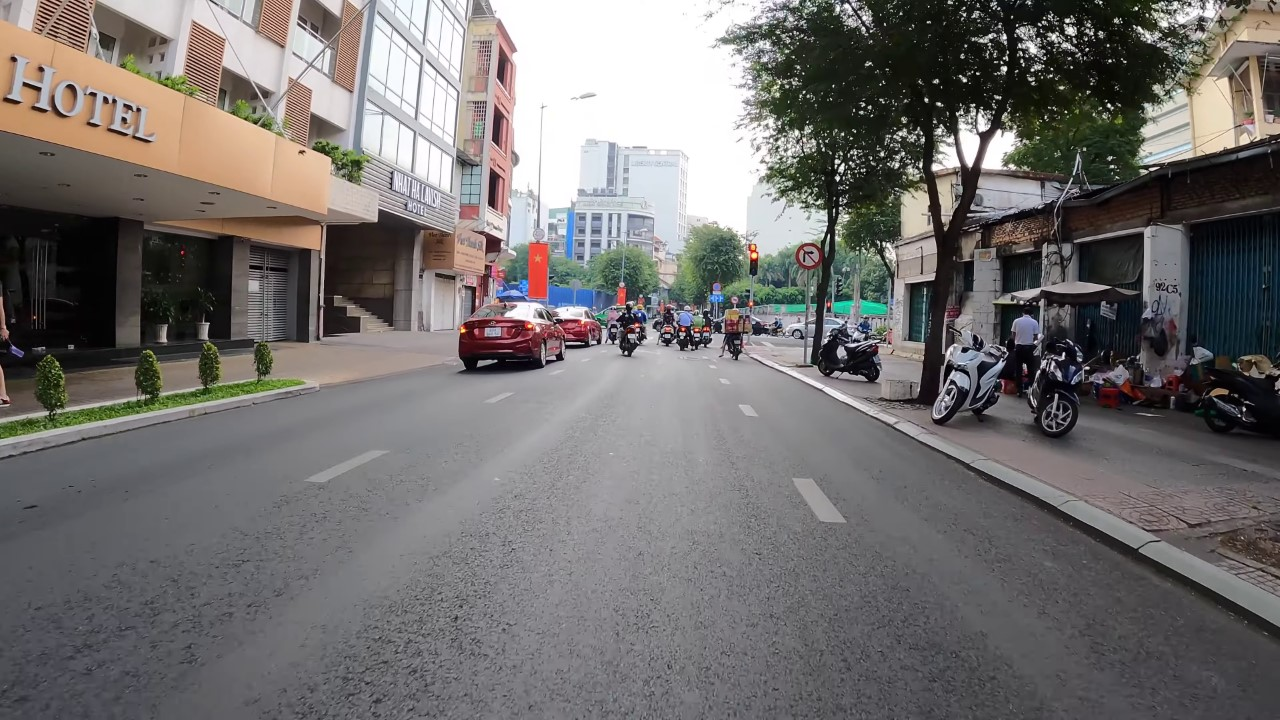cam_re_phai: (795, 240, 823, 271)
